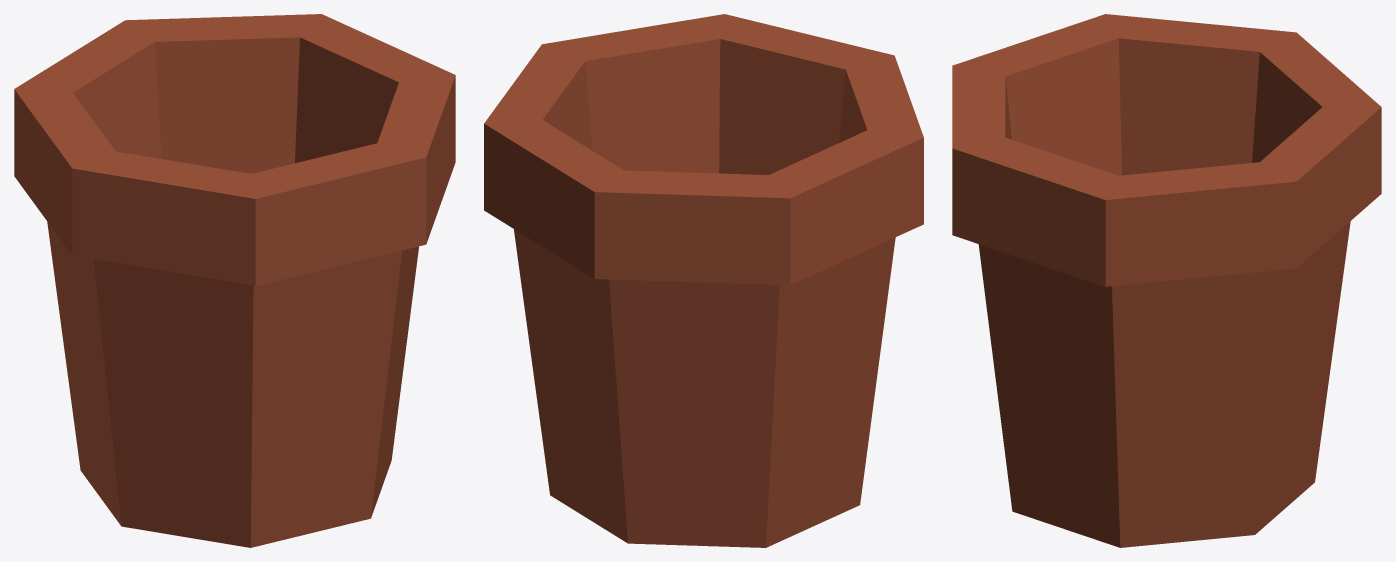
Rendered from FlowerPot.fbx.
The picture shows the model from 3 angles, left to right: view 1: azimuth 30°, elevation 25°; view 2: azimuth 150°, elevation 25°; view 3: azimuth 270°, elevation 25°; orthographic projection.
Visible parts, largest first — view 1: FlowerPot; view 2: FlowerPot; view 3: FlowerPot.
Part boxes in pixels (x1,y1,x2,y2): FlowerPot: [14, 14, 455, 547]; FlowerPot: [484, 14, 923, 547]; FlowerPot: [952, 14, 1381, 547].
Bounding box in the file's own units: 138 × 130 × 135.
